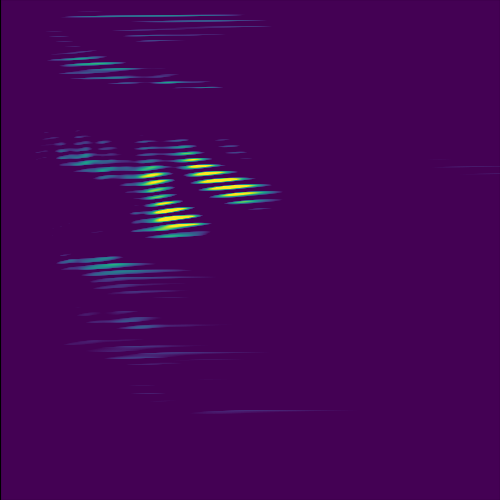semblance: (139, 193, 214, 239), (129, 161, 179, 194)
